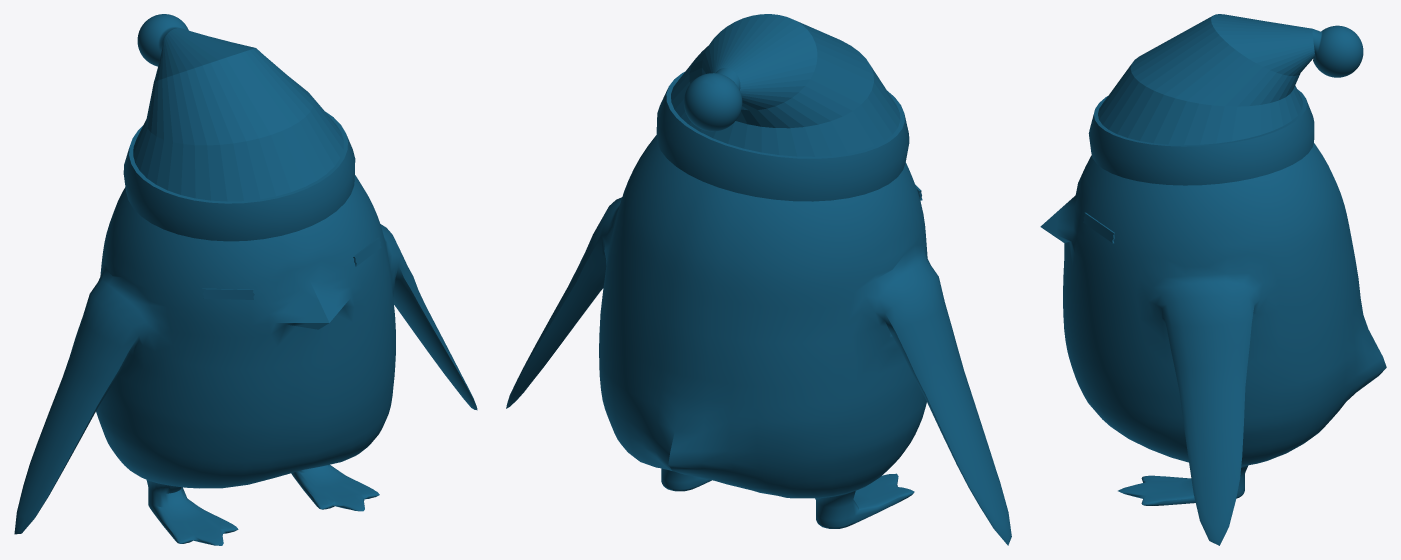
Rendered from penguin_blue_idle_17f.fbx.
The picture shows the model from 3 angles, left to right: view 1: azimuth 30°, elevation 25°; view 2: azimuth 150°, elevation 25°; view 3: azimuth 270°, elevation 25°; orthographic projection. The views are drawn at different scales.
Visible parts, largest first — view 1: ppp_17, bousi, ai; view 2: ppp_17, bousi; view 3: ppp_17, bousi.
Part boxes in pixels (box(x1,y1,x2,y2)): ppp_17: box(14, 175, 477, 545); bousi: box(123, 14, 355, 241); ai: box(202, 237, 381, 299); ppp_17: box(506, 135, 1011, 545); bousi: box(656, 14, 909, 201); ppp_17: box(1040, 142, 1386, 545); bousi: box(1088, 14, 1363, 185).
Bounding box in the file's own units: 21.79 × 20.11 × 14.61.
1 material, 1 textured.
